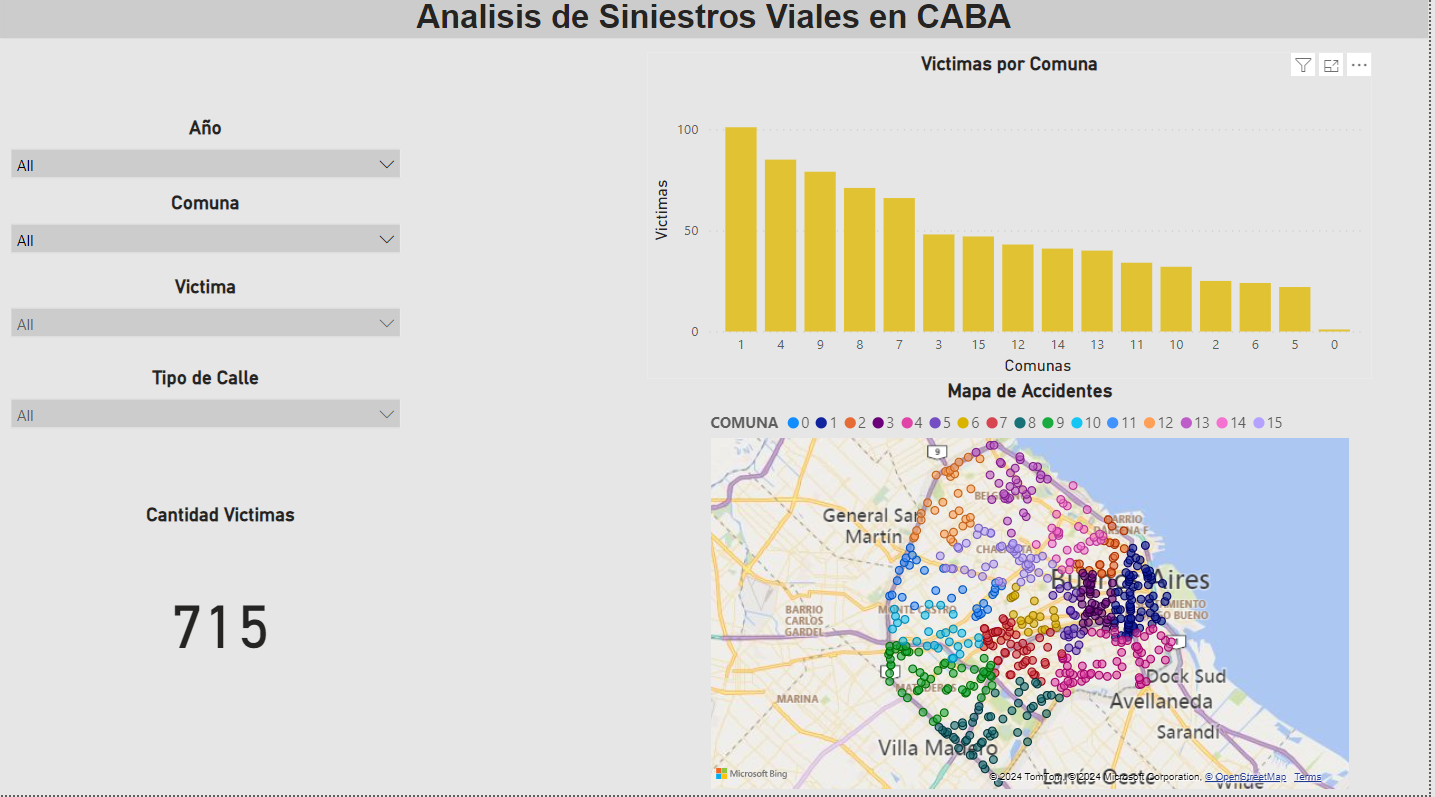

The dashboard page shown, as its layout file describes it:
{"tool":"powerbi","page":{"name":"Siniestros","canvas":[1280,720],"ordinal":1},"visuals":[{"type":"textbox","title":"Analisis de Siniestros Viales en CABA","box":[0,6.3,1280,36.2],"z":0},{"type":"slicer","title":"Año","fields":{"Values":["df_homicidios.AÑO"]},"box":[0,111.7,369.8,134.1],"z":1000},{"type":"slicer","title":"Comuna","fields":{"Values":["df_homicidios.COMUNA"]},"box":[0,178.8,369.8,67],"z":2000},{"type":"columnChart","title":"Victimas por Comuna","fields":{"Category":["df_homicidios.COMUNA"],"Y":["Sum(df_homicidios.N_VICTIMAS)"]},"box":[580.3,54.3,649.1,293.3],"z":3000},{"type":"slicer","title":"Victima","fields":{"Values":["df_homicidios.VICTIMA"]},"box":[0,254,369.8,57.9],"z":4000},{"type":"slicer","title":"Tipo de Calle","fields":{"Values":["df_homicidios.TIPO_DE_CALLE"]},"box":[0,336.3,369.8,61],"z":5000},{"type":"card","title":"Cantidad Victimas","fields":{"Values":["CountNonNull(df_homicidios.N_VICTIMAS)"]},"box":[13.2,458.2,369.8,189],"z":6000},{"type":"map","title":"Mapa de Accidentes","fields":{"Series":["df_homicidios.COMUNA"],"Y":["df_homicidios.COORDENADAS_Y"],"X":["df_homicidios.COORDENADAS_X"]},"box":[631.9,347.4,582.1,372.8],"z":7000}]}

Visuals, with their boxes in screenshot pixels (x1, y1, x2, y2), scaled from the page's 1280x720 canvas onto the 1435x797 screenshot:
"Analisis de Siniestros Viales en CABA" textbox: <bbox>0, 7, 1434, 47</bbox>
"Año" slicer: <bbox>0, 124, 415, 272</bbox>
"Comuna" slicer: <bbox>0, 198, 415, 272</bbox>
"Victimas por Comuna" columnChart: <bbox>651, 60, 1378, 385</bbox>
"Victima" slicer: <bbox>0, 281, 415, 345</bbox>
"Tipo de Calle" slicer: <bbox>0, 372, 415, 440</bbox>
"Cantidad Victimas" card: <bbox>15, 507, 429, 716</bbox>
"Mapa de Accidentes" map: <bbox>708, 385, 1361, 796</bbox>
